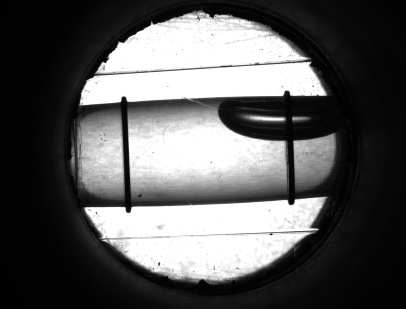line: (116, 123, 135, 193), (281, 146, 301, 185)
